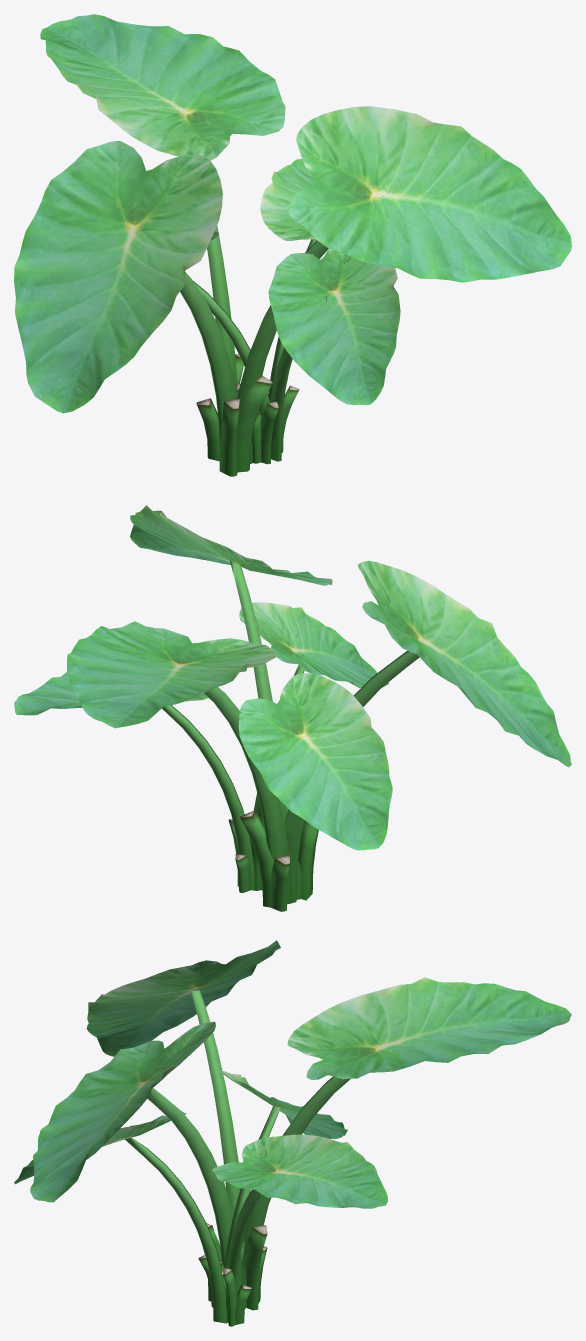
File: hhh.fbx
3 views of the same model, one above another, from view 1: azimuth 30°, elevation 25°; view 2: azimuth 150°, elevation 25°; view 3: azimuth 270°, elevation 25° (orthographic). The views are drawn at different scales.
Visible parts, largest first — view 1: polySurface1; view 2: polySurface1; view 3: polySurface1.
Boxes of the visible parts, bbox=[...] form: polySurface1: bbox=[14, 14, 571, 476]; polySurface1: bbox=[14, 505, 571, 911]; polySurface1: bbox=[14, 940, 571, 1326].
Size of the model in its own units: 0.6433 by 0.426 by 0.6743.
